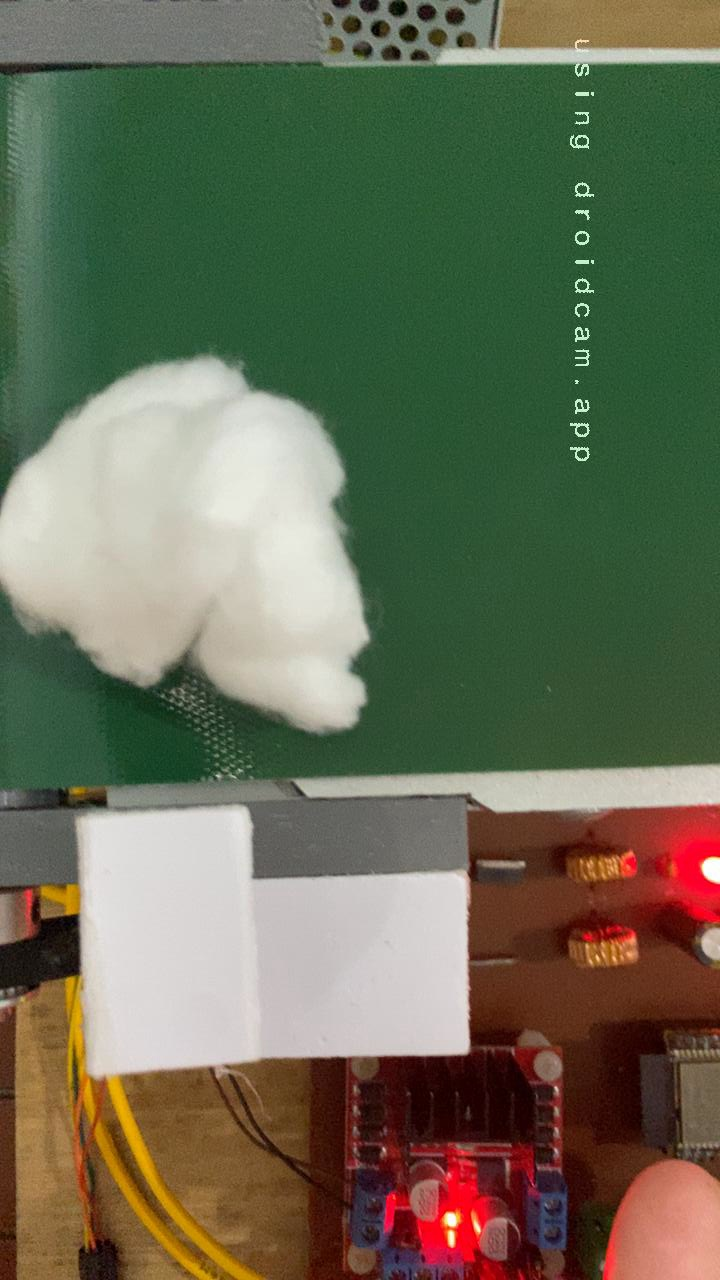cotton: (0, 351, 379, 742)
